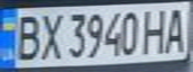0: (118, 7, 142, 55)
3: (63, 9, 87, 60)
4: (103, 8, 124, 57)
9: (84, 9, 106, 58)
A: (160, 3, 193, 54)
B: (6, 11, 45, 62)
H: (139, 6, 172, 55)
X: (36, 9, 66, 61)
